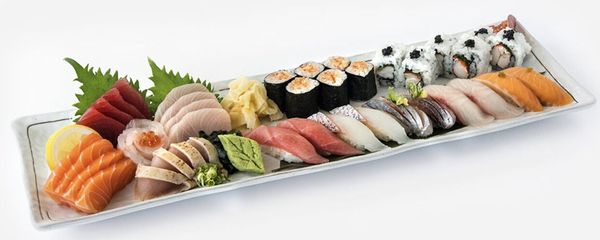burger: (450, 78, 523, 118), (423, 85, 491, 126), (475, 72, 542, 112), (414, 97, 457, 131)
